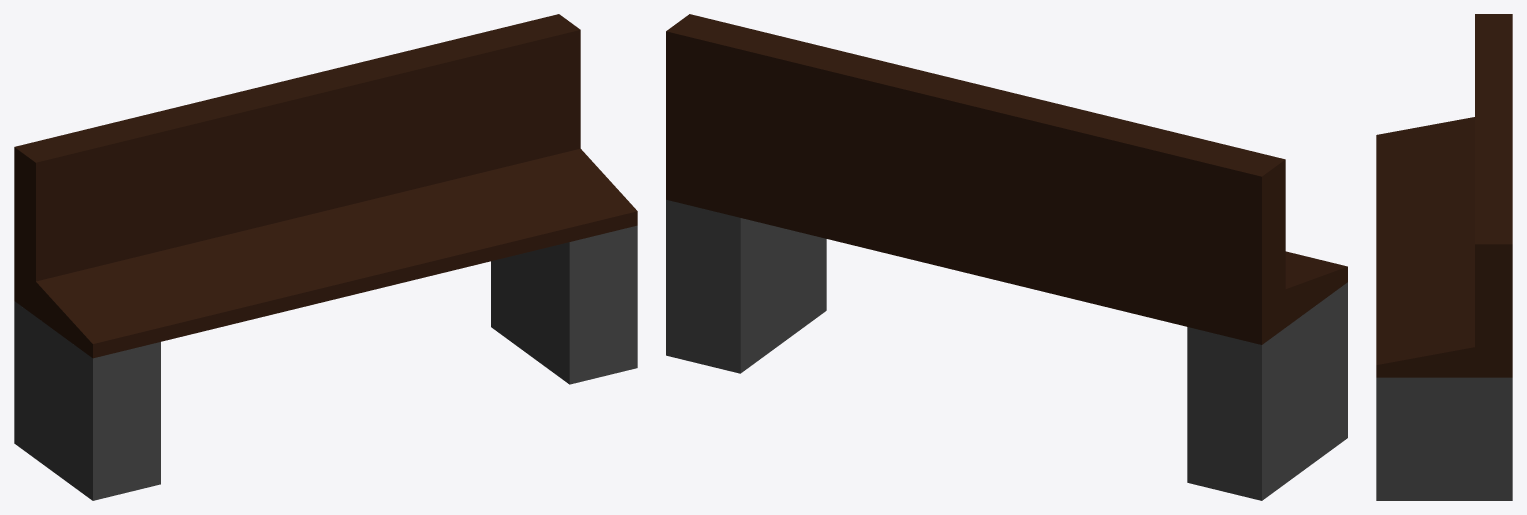
File: Benk.FBX
The picture shows the model from 3 angles, left to right: view 1: azimuth 30°, elevation 25°; view 2: azimuth 150°, elevation 25°; view 3: azimuth 270°, elevation 25°; orthographic projection. The views are drawn at different scales.
Visible parts, largest first — view 1: Benk; view 2: Benk; view 3: Benk.
Boxes of the visible parts, bbox=[...] form: Benk: bbox=[14, 14, 637, 500]; Benk: bbox=[666, 14, 1347, 500]; Benk: bbox=[1376, 14, 1512, 500].
Size of the model in its own units: 120 by 62.4 by 30.
